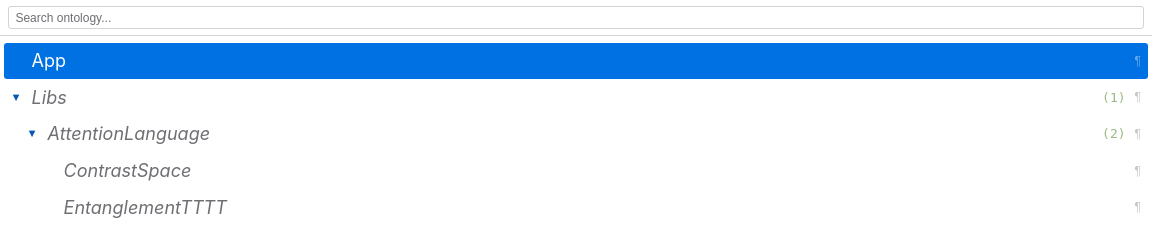
Test: OntologyTree component › context menu Find References resolves imported ontology refs across workspace and Libs
The width and height of the screenshot is (1152, 235).
Right-click the element showing "EntanglementTTTT ¶" at point(145, 207), box [64, 197, 1144, 218]
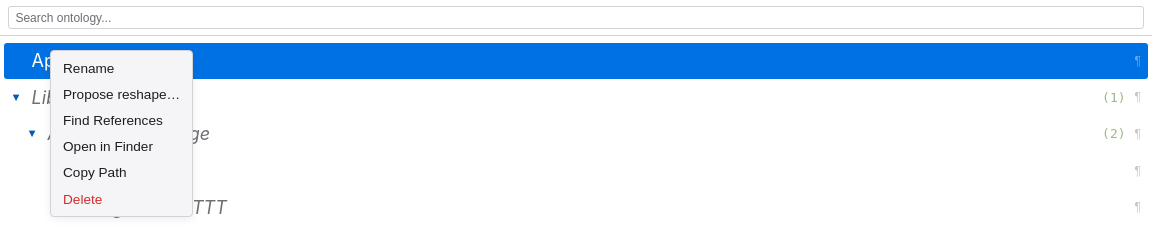
Expected: the button "Find References" is shown
Click the button "Find References" at point(122, 120), box [51, 107, 192, 134]
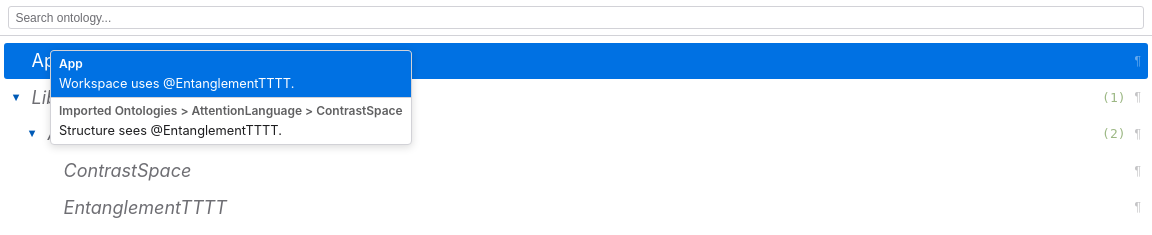
Expected: the text "Workspace uses @EntanglementTTTT." is shown, [59, 76, 294, 91]
Expected: the text "Structure sees @EntanglementTTTT." is shown, [59, 123, 282, 138]
